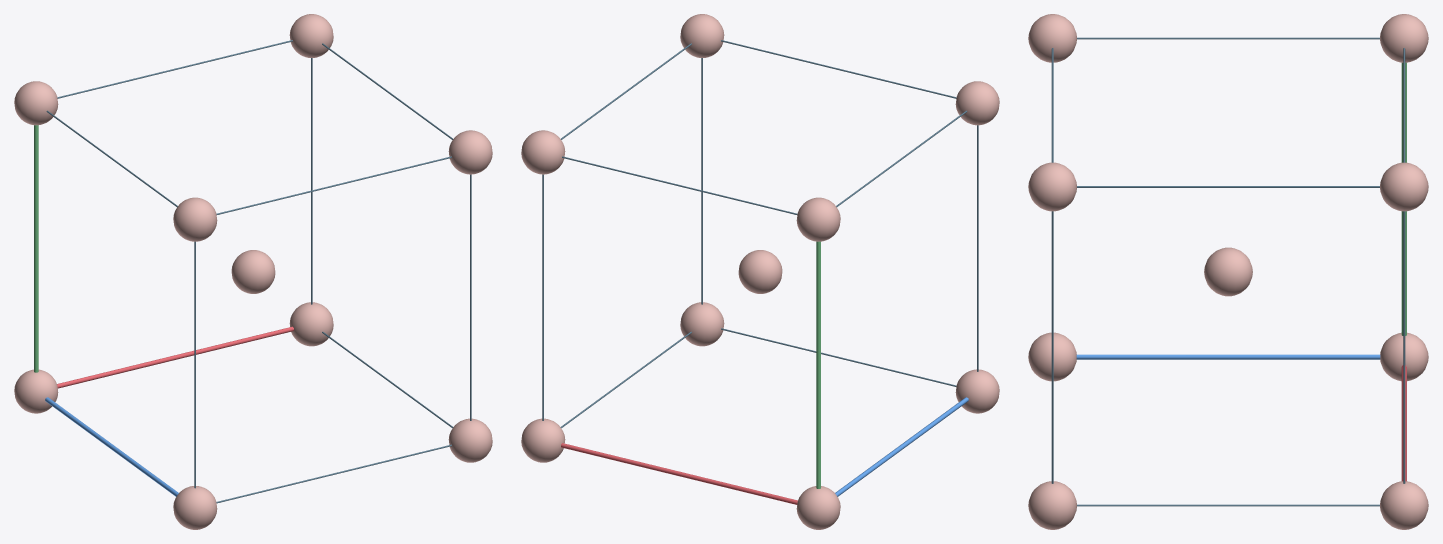
Rendered from nguyen-to-eu.glb.
3 views of the same model, side by side, from view 1: azimuth 30°, elevation 25°; view 2: azimuth 150°, elevation 25°; view 3: azimuth 270°, elevation 25° (orthographic). The views are drawn at different scales.
Parts seen in each view (by area): view 1: Eu · Eu · 1 (×9), Ô mạng và các trục a, b, c; view 2: Eu · Eu · 1 (×9), Ô mạng và các trục a, b, c; view 3: Eu · Eu · 1 (×9), Ô mạng và các trục a, b, c.
Part boxes in pixels (x1=…): Eu · Eu · 1 (×9): x1=14, y1=14, x2=492, y2=529; Ô mạng và các trục a, b, c: x1=34, y1=40, x2=471, y2=503; Eu · Eu · 1 (×9): x1=521, y1=14, x2=999, y2=529; Ô mạng và các trục a, b, c: x1=542, y1=40, x2=978, y2=504; Eu · Eu · 1 (×9): x1=1028, y1=14, x2=1428, y2=529; Ô mạng và các trục a, b, c: x1=1051, y1=37, x2=1406, y2=506.
Size of the model in its own units: 5.25 by 5.25 by 5.25.
